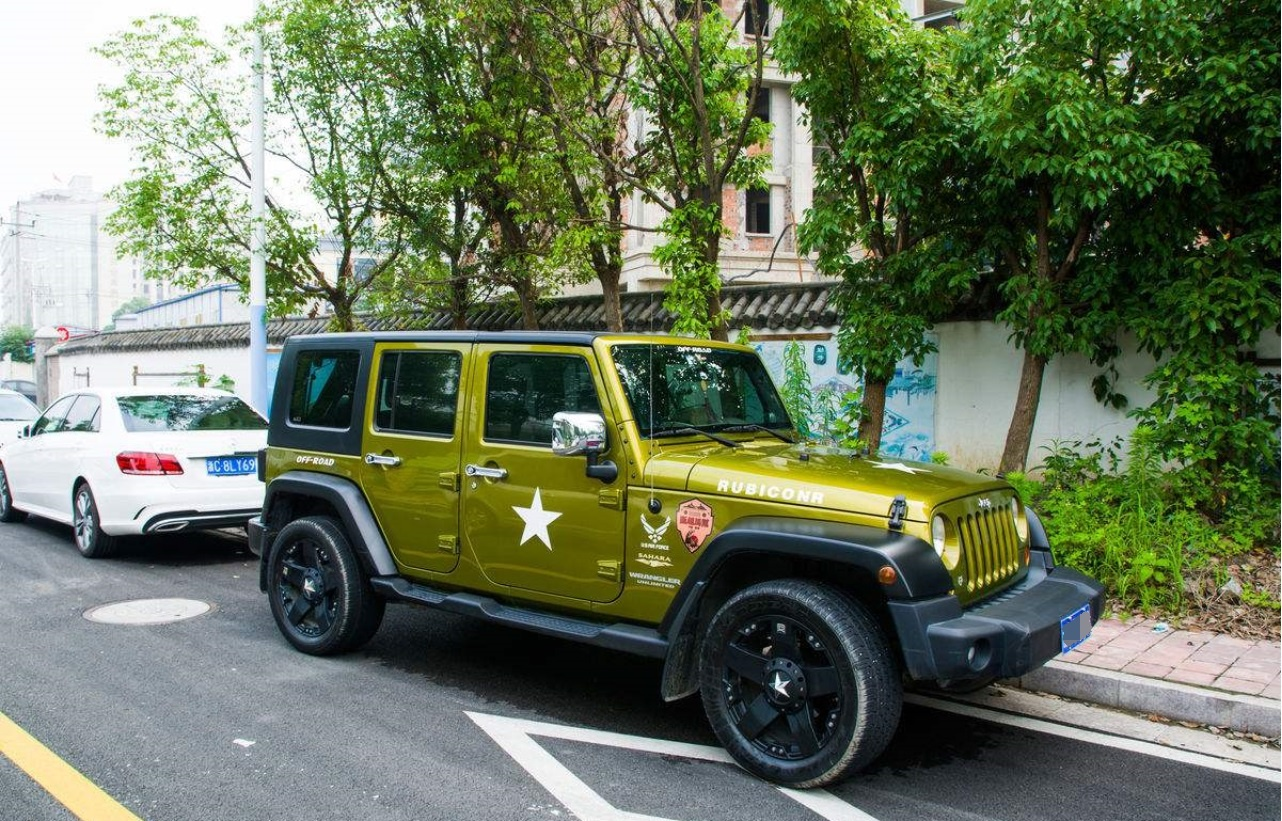jeep: (263, 313, 1093, 783)
